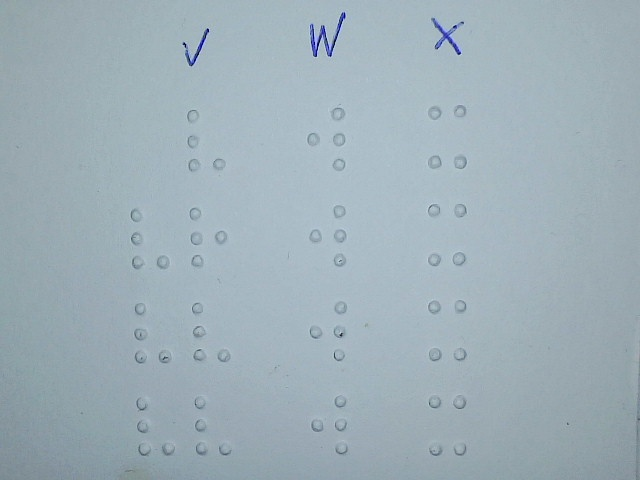V: (185, 107, 228, 174), (129, 205, 172, 272), (190, 299, 233, 366), (134, 393, 177, 460), (191, 392, 234, 459)
W: (305, 105, 348, 172), (306, 201, 349, 268), (306, 297, 349, 364), (307, 391, 350, 458)
X: (426, 103, 469, 170), (425, 200, 468, 267), (426, 296, 469, 363), (426, 392, 469, 459)
